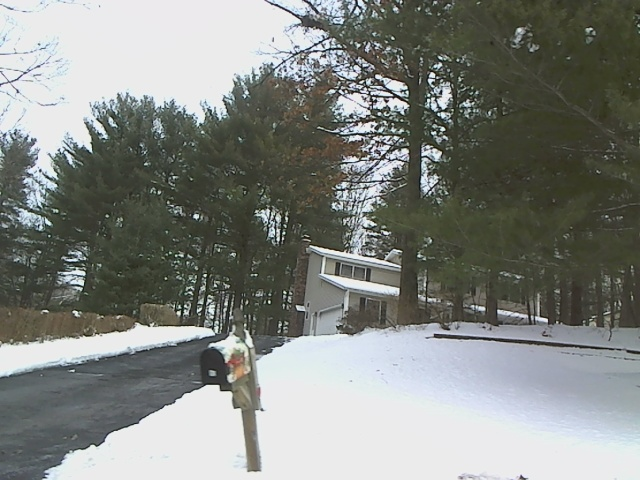Ploughed: (1, 351, 198, 456)
